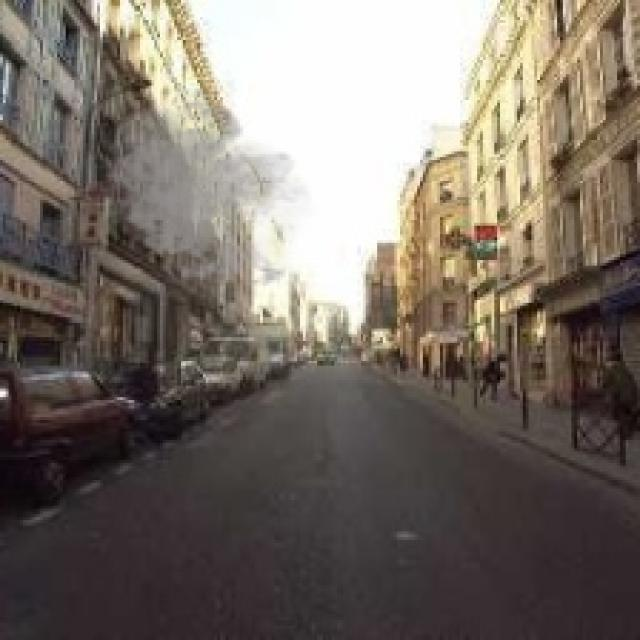Smoke: (100, 86, 317, 292)
